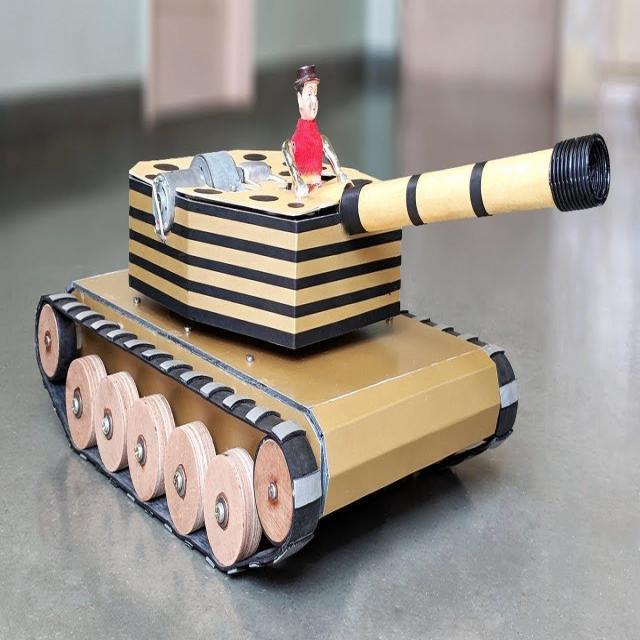MIL_MBT: (20, 130, 612, 580)
